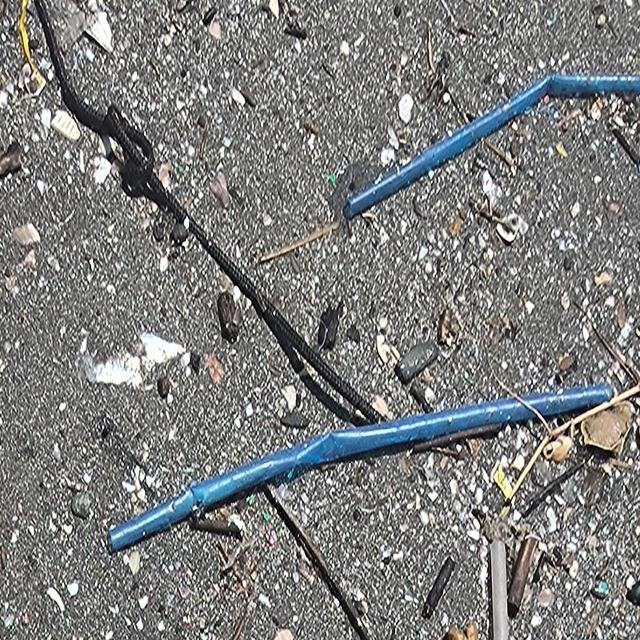plastic_waste: (108, 385, 614, 556), (345, 75, 640, 221)
